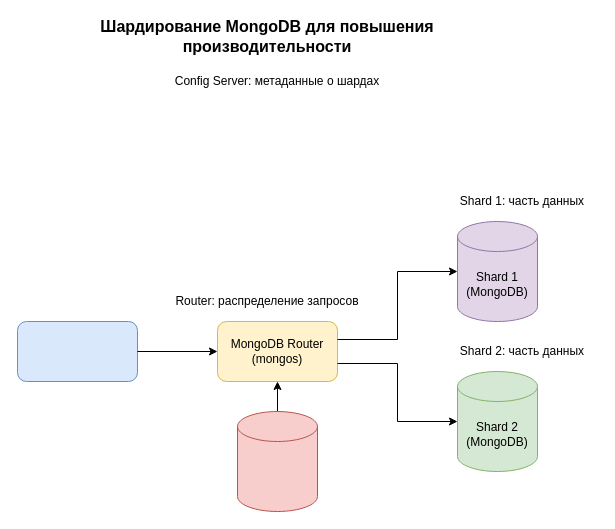
Some shapes in this 615 by 529 pixel diagram are drawn without their labels. Each missing label, with the box of its shape:
Config Server (MongoDB): (236, 410, 318, 512)
pymongo-api (FastAPI): (16, 320, 138, 382)
